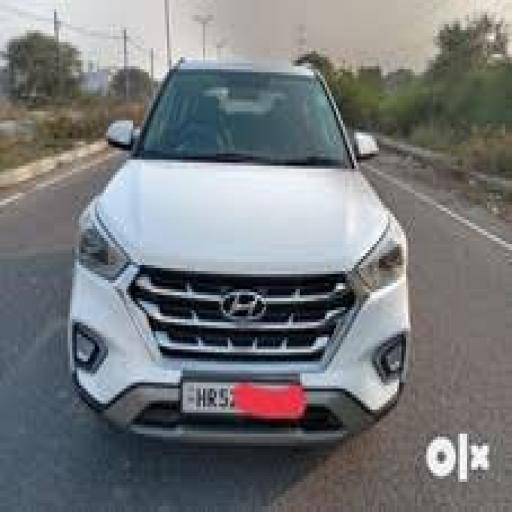car: (58, 32, 464, 468)
